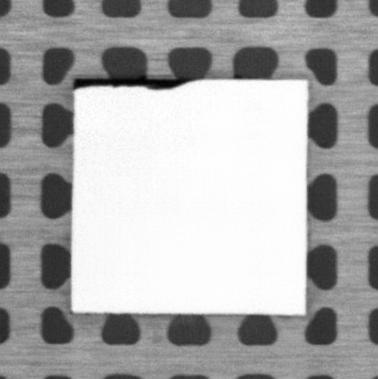DIE_BROKEN: (72, 74, 199, 91)
